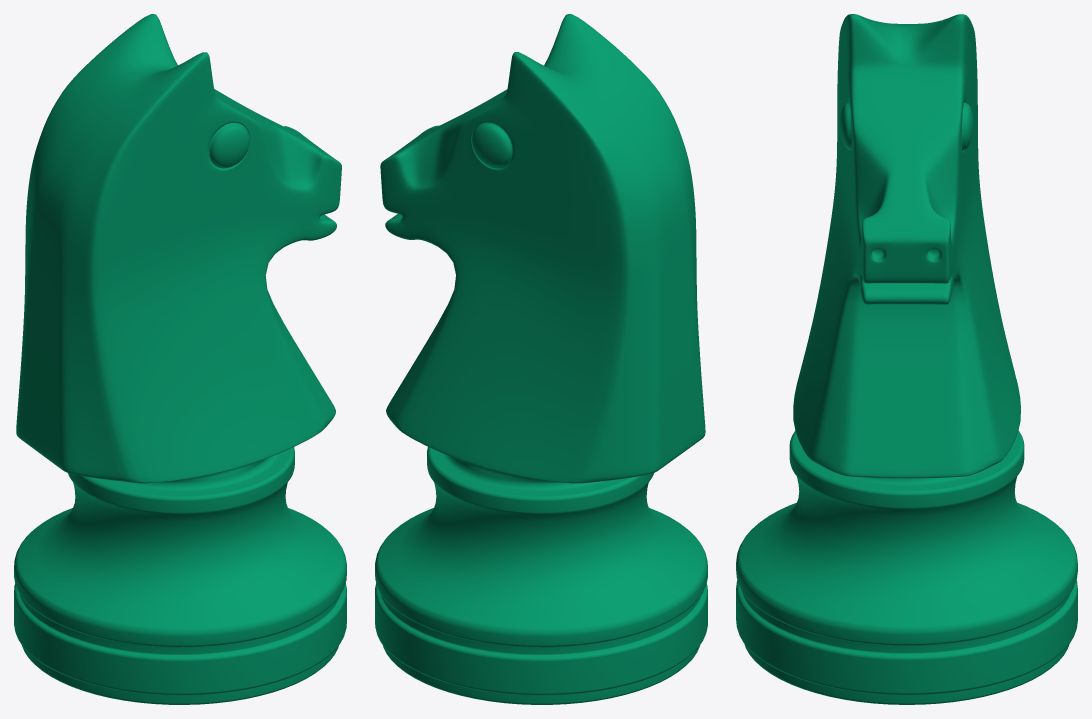
File: green_horse.glb
3 views of the same model, side by side, from view 1: azimuth 30°, elevation 25°; view 2: azimuth 150°, elevation 25°; view 3: azimuth 270°, elevation 25° (orthographic). The views are drawn at different scales.
Visible parts, largest first — view 1: Chess_piece_Horse_1_Black_HP__1_; view 2: Chess_piece_Horse_1_Black_HP__1_; view 3: Chess_piece_Horse_1_Black_HP__1_.
Part boxes in pixels (x1,y1,x2,y2): Chess_piece_Horse_1_Black_HP__1_: [14, 14, 346, 704]; Chess_piece_Horse_1_Black_HP__1_: [375, 14, 707, 704]; Chess_piece_Horse_1_Black_HP__1_: [736, 14, 1077, 704].
Size of the model in its own units: 0.0519 by 0.1041 by 0.0519.
